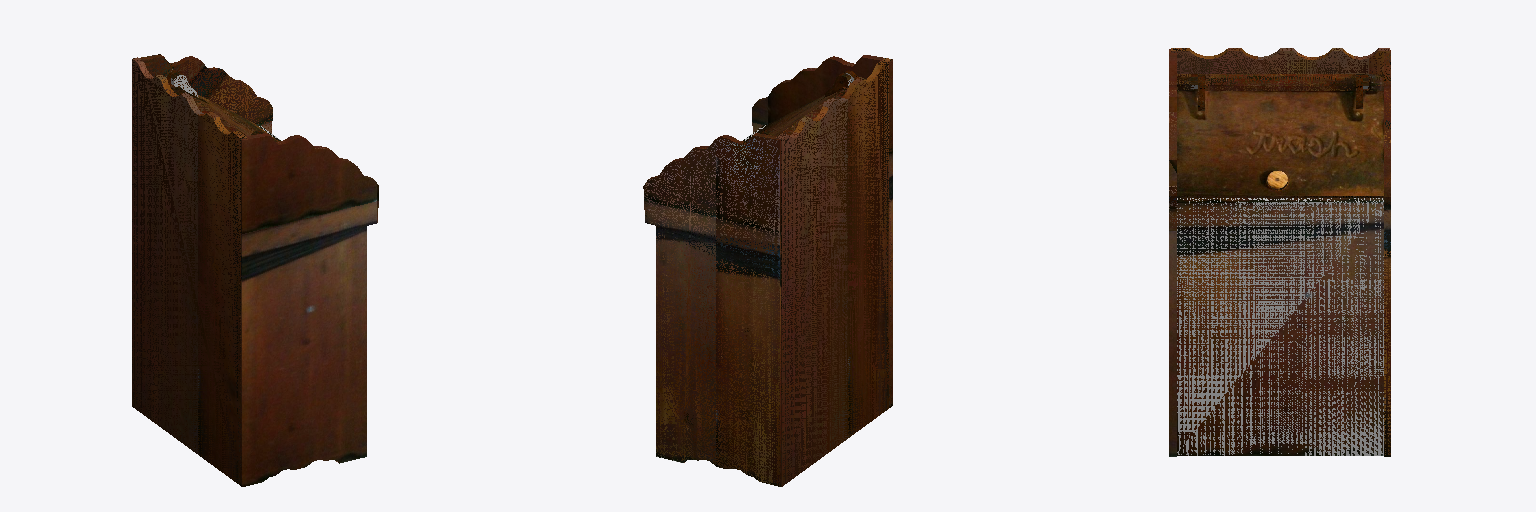
The picture shows the model from 3 angles: view 1: azimuth 30°, elevation 25°; view 2: azimuth 150°, elevation 25°; view 3: azimuth 270°, elevation 25°; orthographic projection.
Visible parts, largest first — view 1: mesh4.001_mesh4-geometry, mesh6.001_mesh6-geometry, mesh8_mesh8-geometry, mesh3.001_mesh3-geometry; view 2: mesh8_mesh8-geometry, mesh6.001_mesh6-geometry, mesh4.001_mesh4-geometry, mesh3.001_mesh3-geometry; view 3: mesh1.001_mesh1-geometry, mesh3.001_mesh3-geometry, mesh6.001_mesh6-geometry, mesh4.001_mesh4-geometry, mesh2.001_mesh2-geometry, mesh8_mesh8-geometry.
Part boxes in pixels (x1,y1,x2,y2): mesh4.001_mesh4-geometry: (239,133,378,486); mesh6.001_mesh6-geometry: (132,57,246,484); mesh8_mesh8-geometry: (140,54,272,133); mesh3.001_mesh3-geometry: (187,92,278,141); mesh8_mesh8-geometry: (643,133,780,486); mesh6.001_mesh6-geometry: (776,58,891,486); mesh4.001_mesh4-geometry: (752,55,892,407); mesh3.001_mesh3-geometry: (745,92,836,141); mesh1.001_mesh1-geometry: (1177,198,1383,455); mesh3.001_mesh3-geometry: (1177,91,1383,197); mesh6.001_mesh6-geometry: (1171,48,1389,73); mesh4.001_mesh4-geometry: (1169,49,1176,456); mesh2.001_mesh2-geometry: (1177,74,1383,90); mesh8_mesh8-geometry: (1384,50,1390,456).
Bounding box in the file's own units: 0.3388 × 0.8143 × 0.4712.
7 materials, 6 textured.